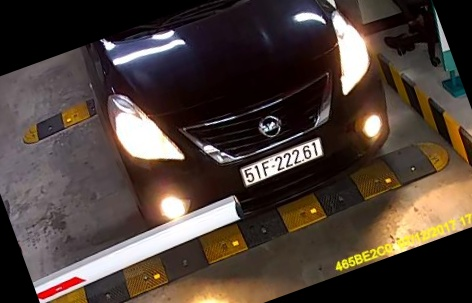plate: (231, 134, 330, 187)
